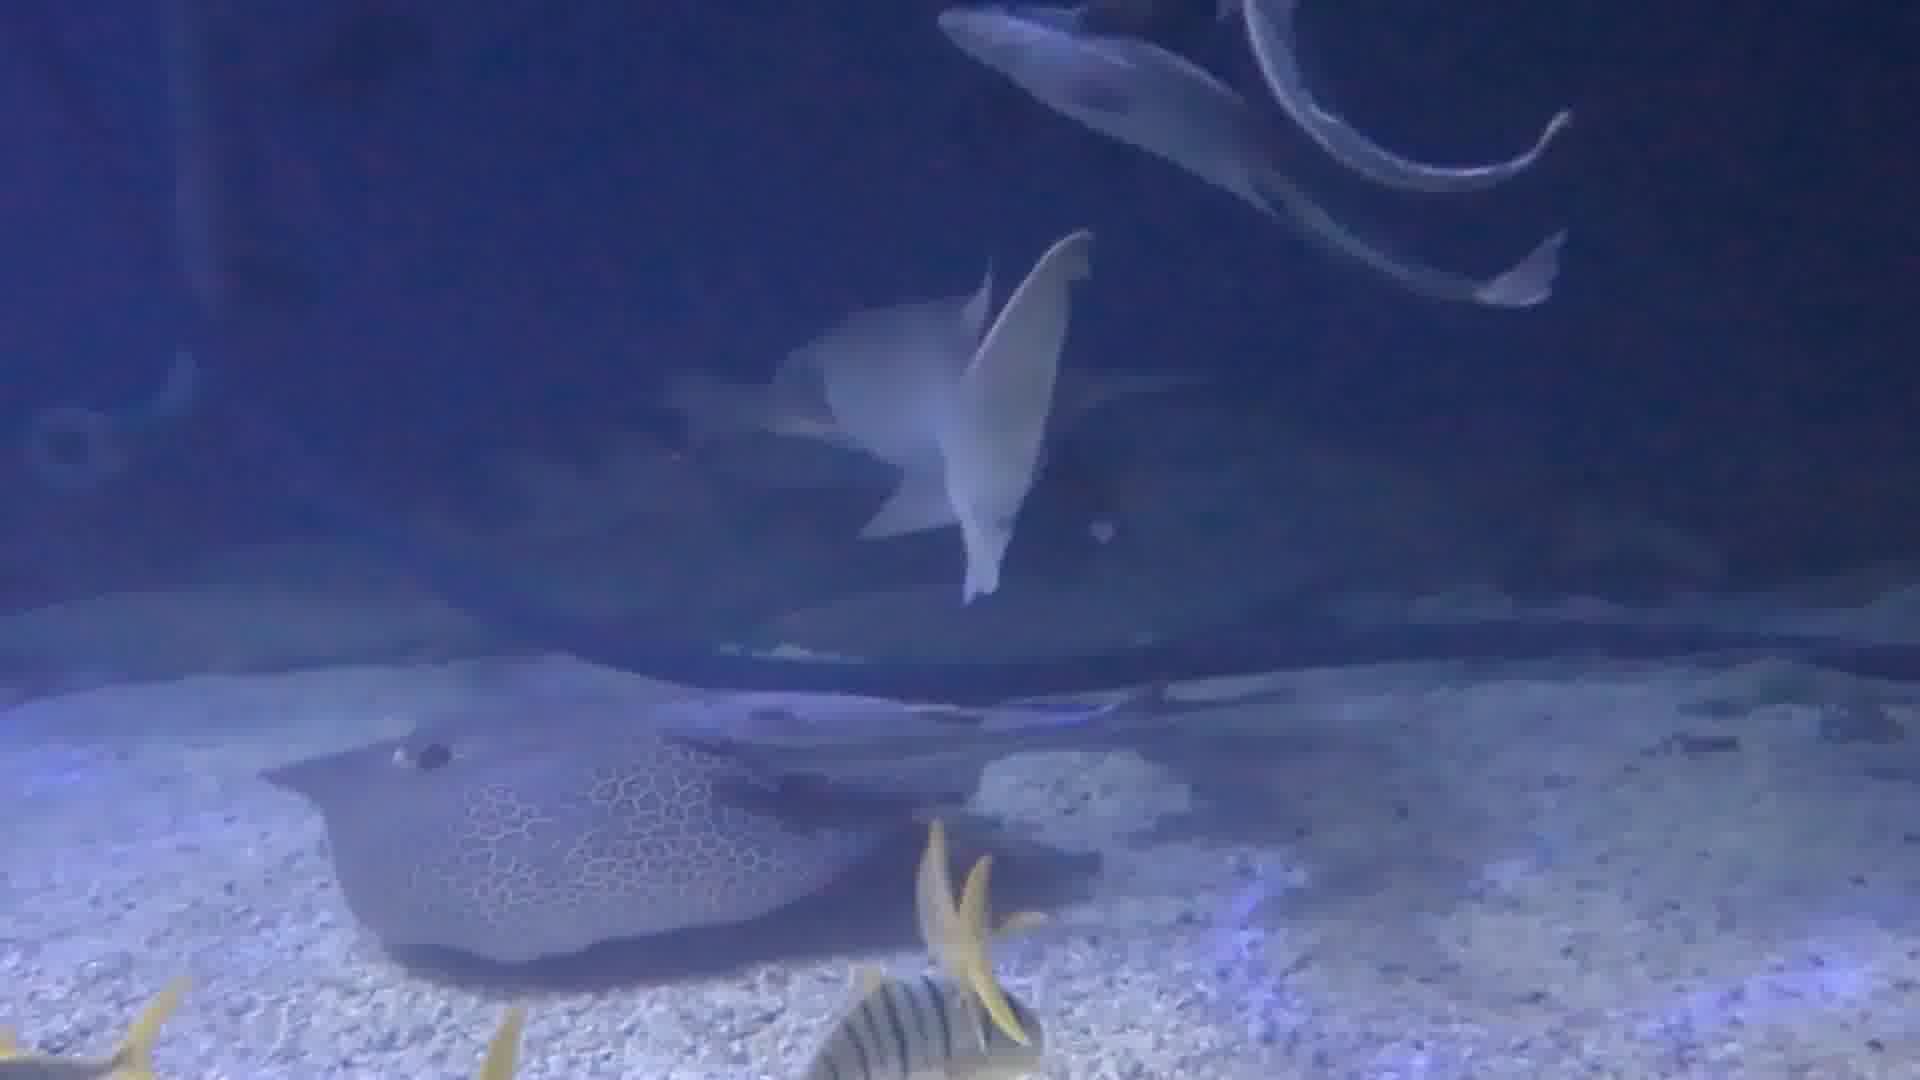Nebrius ferrugineus: (756, 258, 1087, 522)
